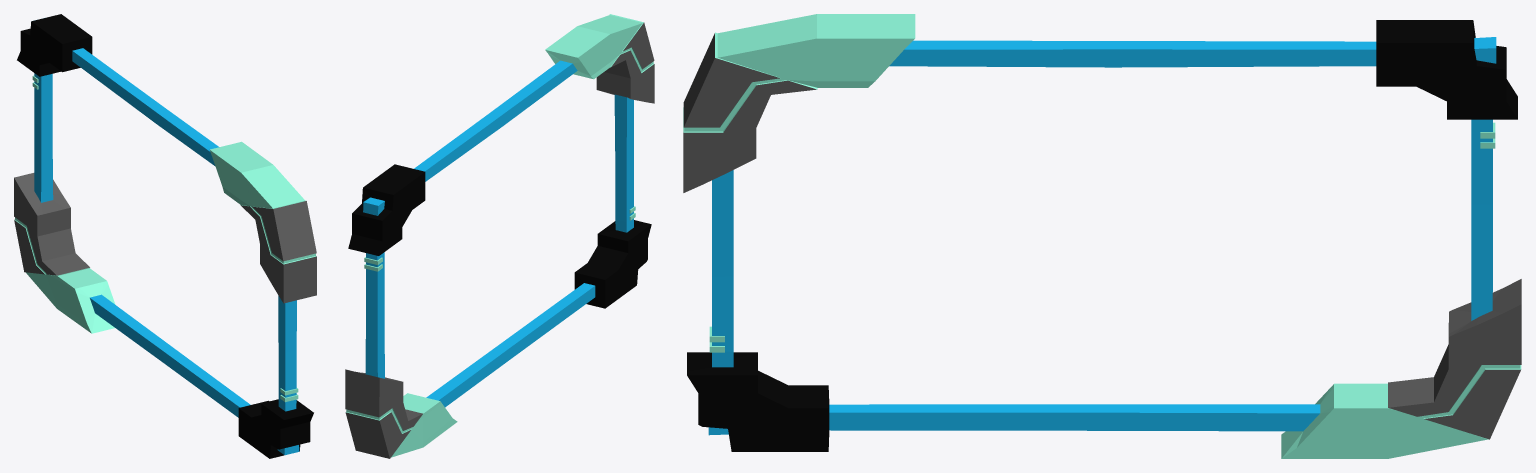
File: uiFrame.fbx
3 views of the same model, side by side, from view 1: azimuth 30°, elevation 25°; view 2: azimuth 150°, elevation 25°; view 3: azimuth 270°, elevation 25° (orthographic). The views are drawn at different scales.
Parts seen in each view (by area): view 1: 立方体; view 2: 立方体; view 3: 立方体.
Part boxes in pixels (bbox=[...]): 立方体: bbox=[14, 14, 316, 458]; 立方体: bbox=[345, 14, 654, 458]; 立方体: bbox=[683, 14, 1521, 458].
Bounding box in the file's own units: 0.45 × 3.48 × 6.28.
1 material, 1 textured.
